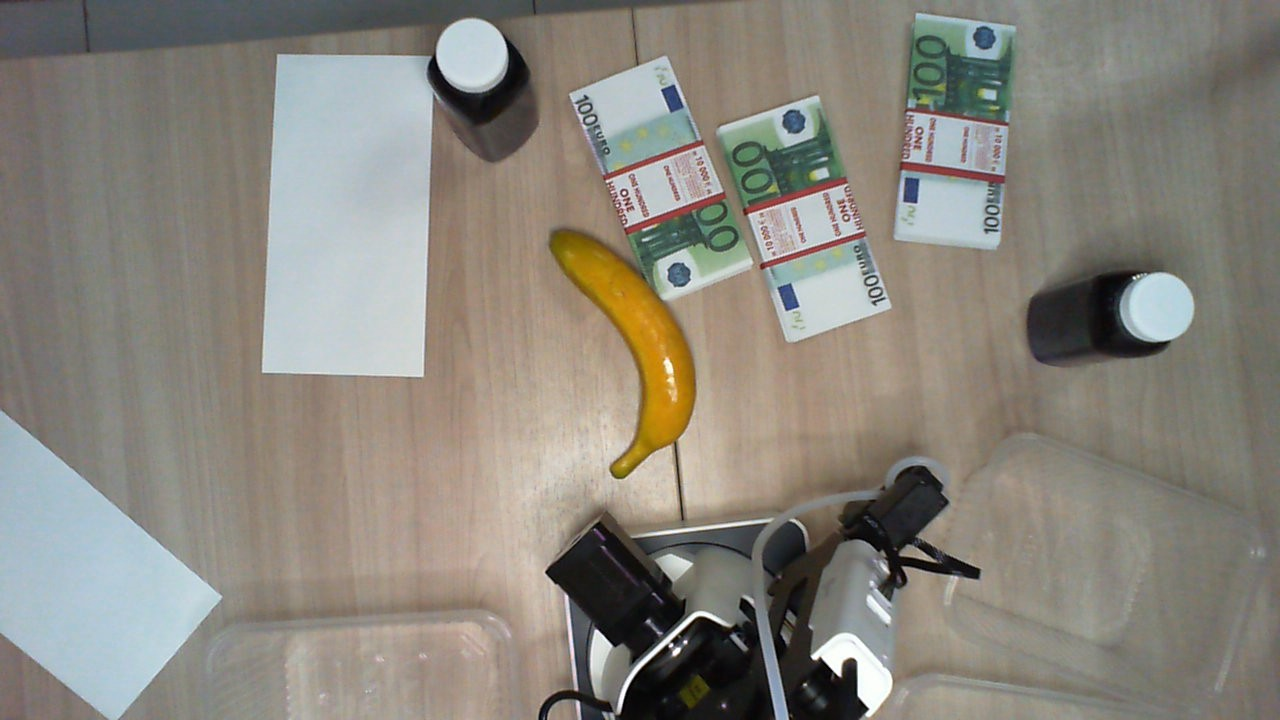banana: (548, 230, 697, 481)
bottle: (428, 16, 533, 121), (1092, 267, 1198, 358)
convert: (1, 410, 224, 717), (261, 54, 435, 377)
money: (568, 55, 752, 299), (718, 94, 891, 344), (893, 13, 1018, 250)
